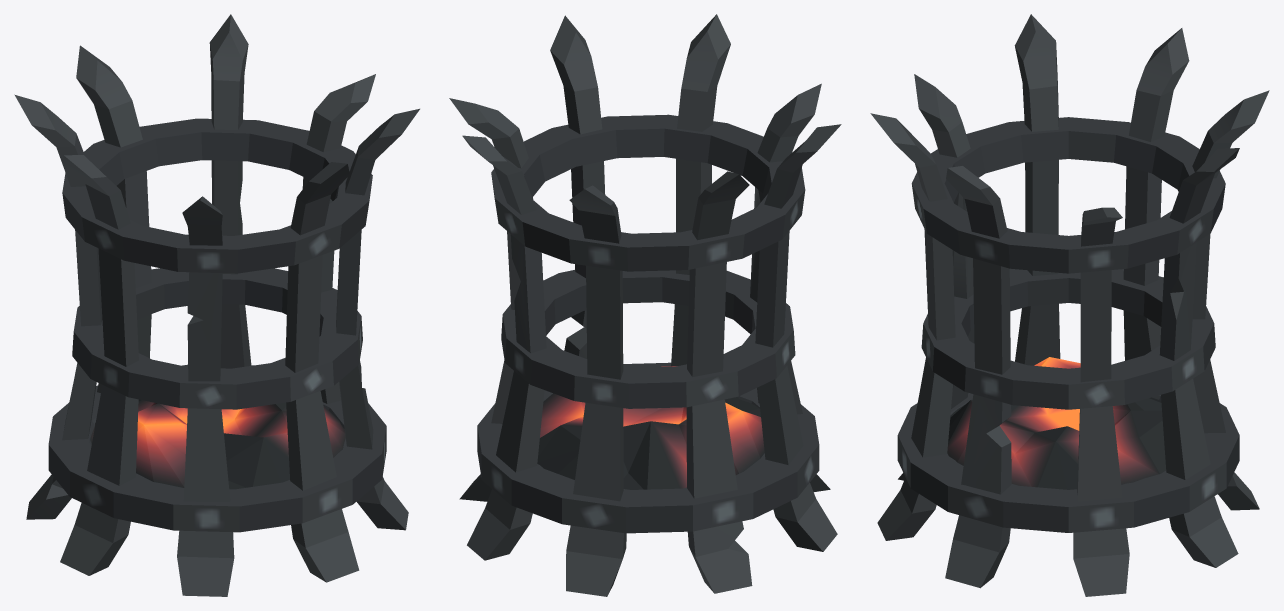
Rendered from SM_Prop_Brazier.fbx.
3 views of the same model, side by side, from view 1: azimuth 30°, elevation 25°; view 2: azimuth 150°, elevation 25°; view 3: azimuth 270°, elevation 25° (orthographic).
Parts seen in each view (by area): view 1: SM_Prop_Brazier_01; view 2: SM_Prop_Brazier_01; view 3: SM_Prop_Brazier_01.
Boxes of the visible parts, x1,y1,x2,y2 form: SM_Prop_Brazier_01: [14, 14, 419, 596]; SM_Prop_Brazier_01: [449, 14, 841, 596]; SM_Prop_Brazier_01: [870, 14, 1269, 596].
Size of the model in its own units: 78.72 by 89.55 by 77.5.
1 material, 1 textured.
